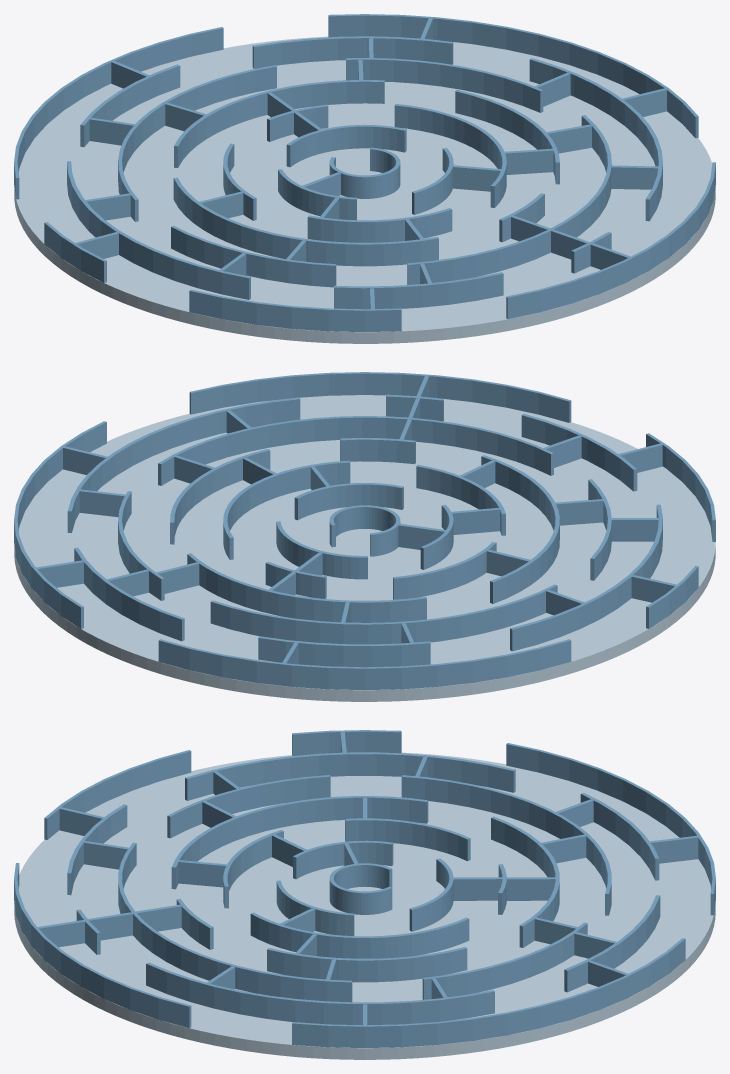
Rendered from maze5.fbx.
3 renders of one model, top to bottom at view 1: azimuth 30°, elevation 25°; view 2: azimuth 150°, elevation 25°; view 3: azimuth 270°, elevation 25°, orthographic.
Parts seen in each view (by area): view 1: Cylinder, Cylinder.008, Cylinder.006, Cylinder.005, Cylinder.004, Cylinder.003, Cylinder.002, Cylinder.001, Cube.005, Cube.010, Cube.002, Cube.007 (+12 smaller); view 2: Cylinder, Cylinder.008, Cylinder.006, Cylinder.005, Cylinder.004, Cylinder.003, Cylinder.002, Cylinder.001, Cube.003, Cube.022, Cube.020, Cube.011 (+12 smaller); view 3: Cylinder, Cylinder.008, Cylinder.006, Cylinder.005, Cylinder.004, Cylinder.003, Cylinder.002, Cylinder.001, Cube.016, Cube.004, Cube.006, Cube.025 (+12 smaller).
Boxes of the visible parts, x1,y1,x2,y2 form: Cylinder: (14,36,715,343); Cylinder.008: (14,14,715,331); Cylinder.006: (67,36,662,309); Cylinder.005: (118,58,611,287); Cylinder.004: (173,80,559,266); Cylinder.003: (223,104,506,242); Cylinder.002: (278,124,453,220); Cylinder.001: (329,147,400,198); Cube.005: (504,148,553,174); Cube.010: (611,165,658,189); Cube.002: (453,165,501,191); Cube.007: (546,124,591,153); Cylinder: (14,395,715,701); Cylinder.008: (14,372,715,689); Cylinder.006: (67,394,662,667); Cylinder.005: (118,416,611,644); Cylinder.004: (170,438,559,622); Cylinder.003: (223,460,505,599); Cylinder.002: (276,483,453,579); Cylinder.001: (329,505,400,556); Cube.003: (451,508,499,534); Cube.022: (611,518,658,541); Cube.020: (555,499,603,525); Cube.011: (79,489,125,517); Cylinder: (14,752,715,1059); Cylinder.008: (14,730,715,1047); Cylinder.006: (67,752,660,1025); Cylinder.005: (118,775,611,1002); Cylinder.004: (171,796,559,982); Cylinder.003: (223,818,506,958); Cylinder.002: (276,840,453,935); Cylinder.001: (329,863,392,914); Cube.016: (506,877,555,900); Cube.004: (453,877,502,900); Cube.006: (178,860,226,887); Cube.025: (650,836,698,863).
Size of the model in its own units: 1188 by 62.51 by 1188.
